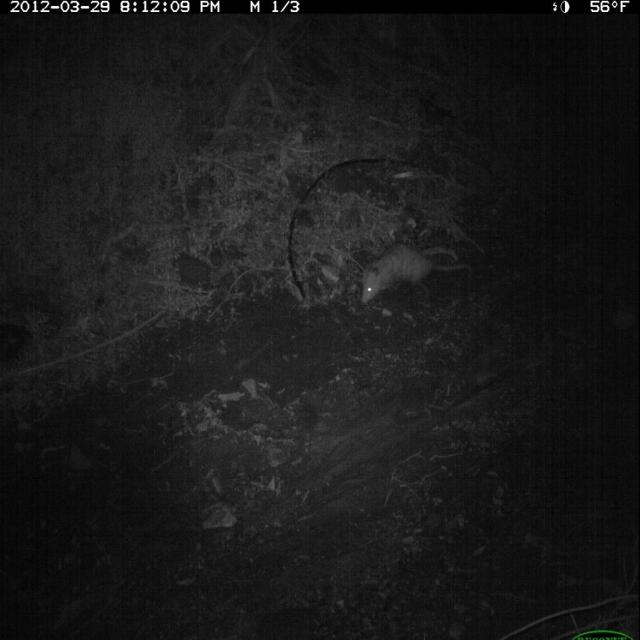opossum: (348, 231, 479, 310)
